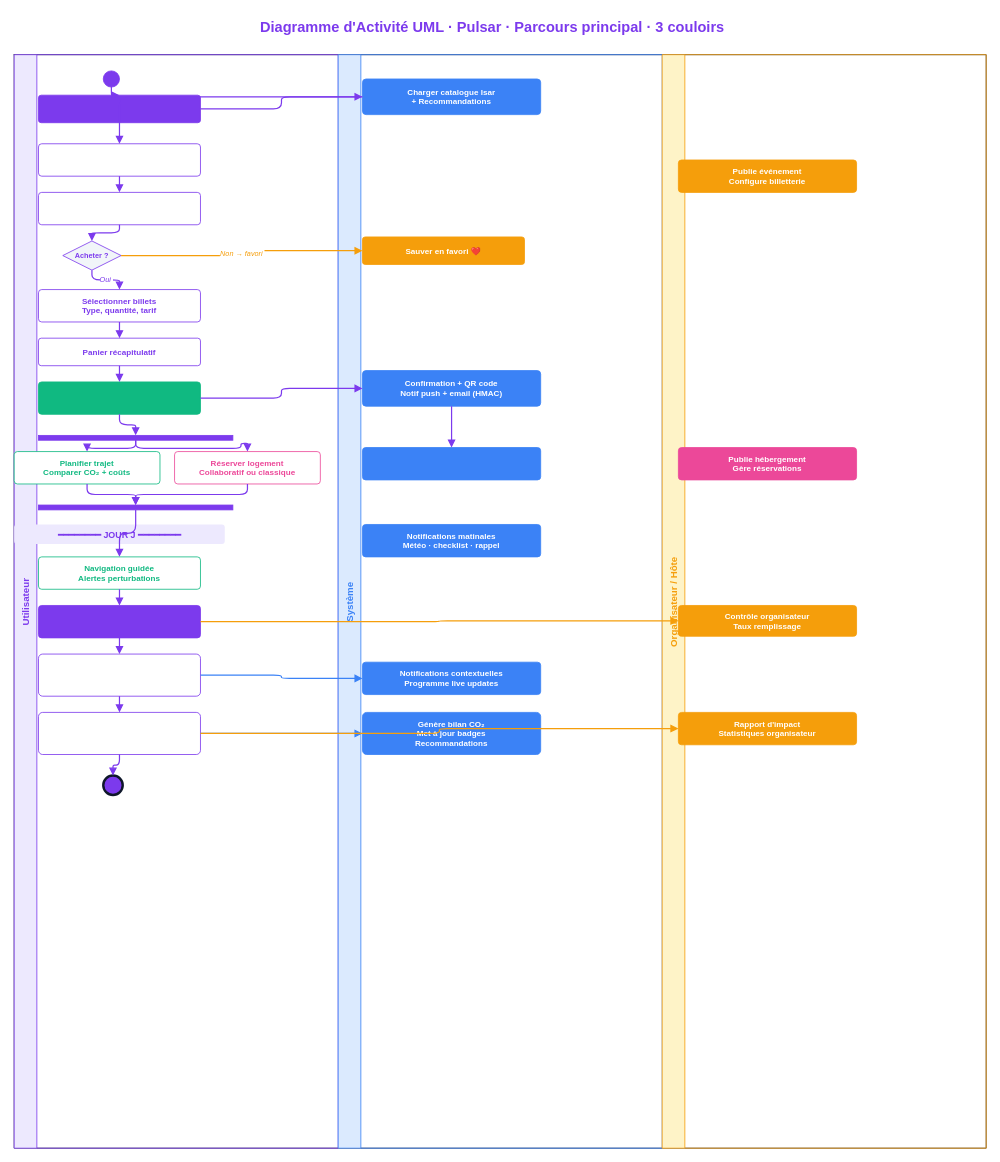
Some shapes in this 1000 by 1162 pixel diagram are drawn without their labels. The centre of each missing label's shape, as x and y in pixels:
Bilan post-événement Avis · Partage social Éco-score: [119,733]
Calcul CO₂ + éco-score Badges, suggestions: [451,463]
Consulter fiche événement Description, avis, programme: [119,208]
Explorer le catalogue Recherche + filtres: [119,159]
Ouvrir Pulsar: [119,108]
Paiement Stripe CB · PayPal · Apple Pay: [119,397]
Scan QR à l'entrée Validation instantanée: [119,621]
Sur place : Plan · Programme live Social · Slow tourisme: [119,674]
